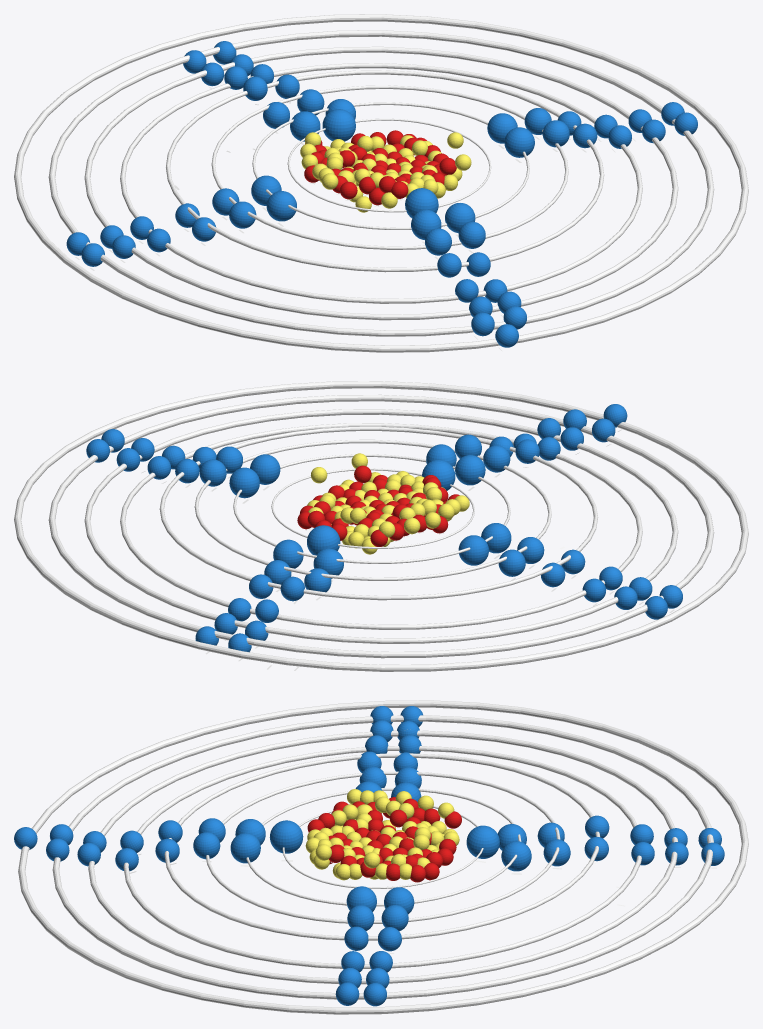
The picture shows the model from 3 angles, top to bottom: view 1: azimuth 30°, elevation 25°; view 2: azimuth 150°, elevation 25°; view 3: azimuth 270°, elevation 25°; orthographic projection.
Parts seen in each view (by area): view 1: Torus.008, Torus.007, Torus.006, Torus.005, Torus.004, Torus.003, Torus.002, Torus.001, g, g.005, g.003, g.001 (+10 smaller); view 2: Torus.008, Torus.007, Torus.006, Torus.005, Torus.004, Torus.003, Torus.002, Torus.001, g, g.006, g.004, g.002 (+13 smaller); view 3: Torus.008, Torus.007, Torus.006, Torus.005, Torus.004, Torus.003, Torus.002, g.001, g, g.007, g.009, Torus.001 (+6 smaller).
Part boxes in pixels (x1,y1,x2,y2): Torus.008: [14, 14, 748, 352]; Torus.007: [48, 30, 714, 336]; Torus.006: [84, 46, 678, 320]; Torus.005: [120, 63, 642, 303]; Torus.004: [166, 70, 604, 272]; Torus.003: [211, 85, 568, 249]; Torus.002: [252, 102, 529, 229]; Torus.001: [287, 118, 491, 212]; g: [322, 109, 355, 141]; g.005: [504, 127, 534, 157]; g.003: [266, 191, 296, 221]; g.001: [405, 188, 438, 218]; Torus.008: [14, 381, 748, 671]; Torus.007: [48, 394, 714, 658]; Torus.006: [84, 409, 678, 643]; Torus.005: [120, 423, 642, 629]; Torus.004: [159, 426, 598, 600]; Torus.003: [194, 439, 551, 580]; Torus.002: [233, 454, 510, 563]; Torus.001: [271, 468, 474, 548]; g: [307, 525, 340, 555]; g.006: [455, 455, 485, 485]; g.004: [229, 467, 259, 498]; g.002: [458, 535, 488, 565]; Torus.008: [18, 700, 748, 1014]; Torus.007: [52, 715, 713, 999]; Torus.006: [88, 730, 677, 984]; Torus.005: [123, 746, 641, 968]; Torus.004: [164, 753, 600, 940]; Torus.003: [206, 771, 560, 923]; Torus.002: [246, 788, 521, 906]; g.001: [269, 820, 303, 853]; g: [466, 825, 499, 858]; g.007: [230, 833, 260, 863]; g.009: [501, 841, 531, 871]; Torus.001: [282, 806, 483, 889].
Bounding box in the file's own units: 21.69 × 2.94 × 21.79.
